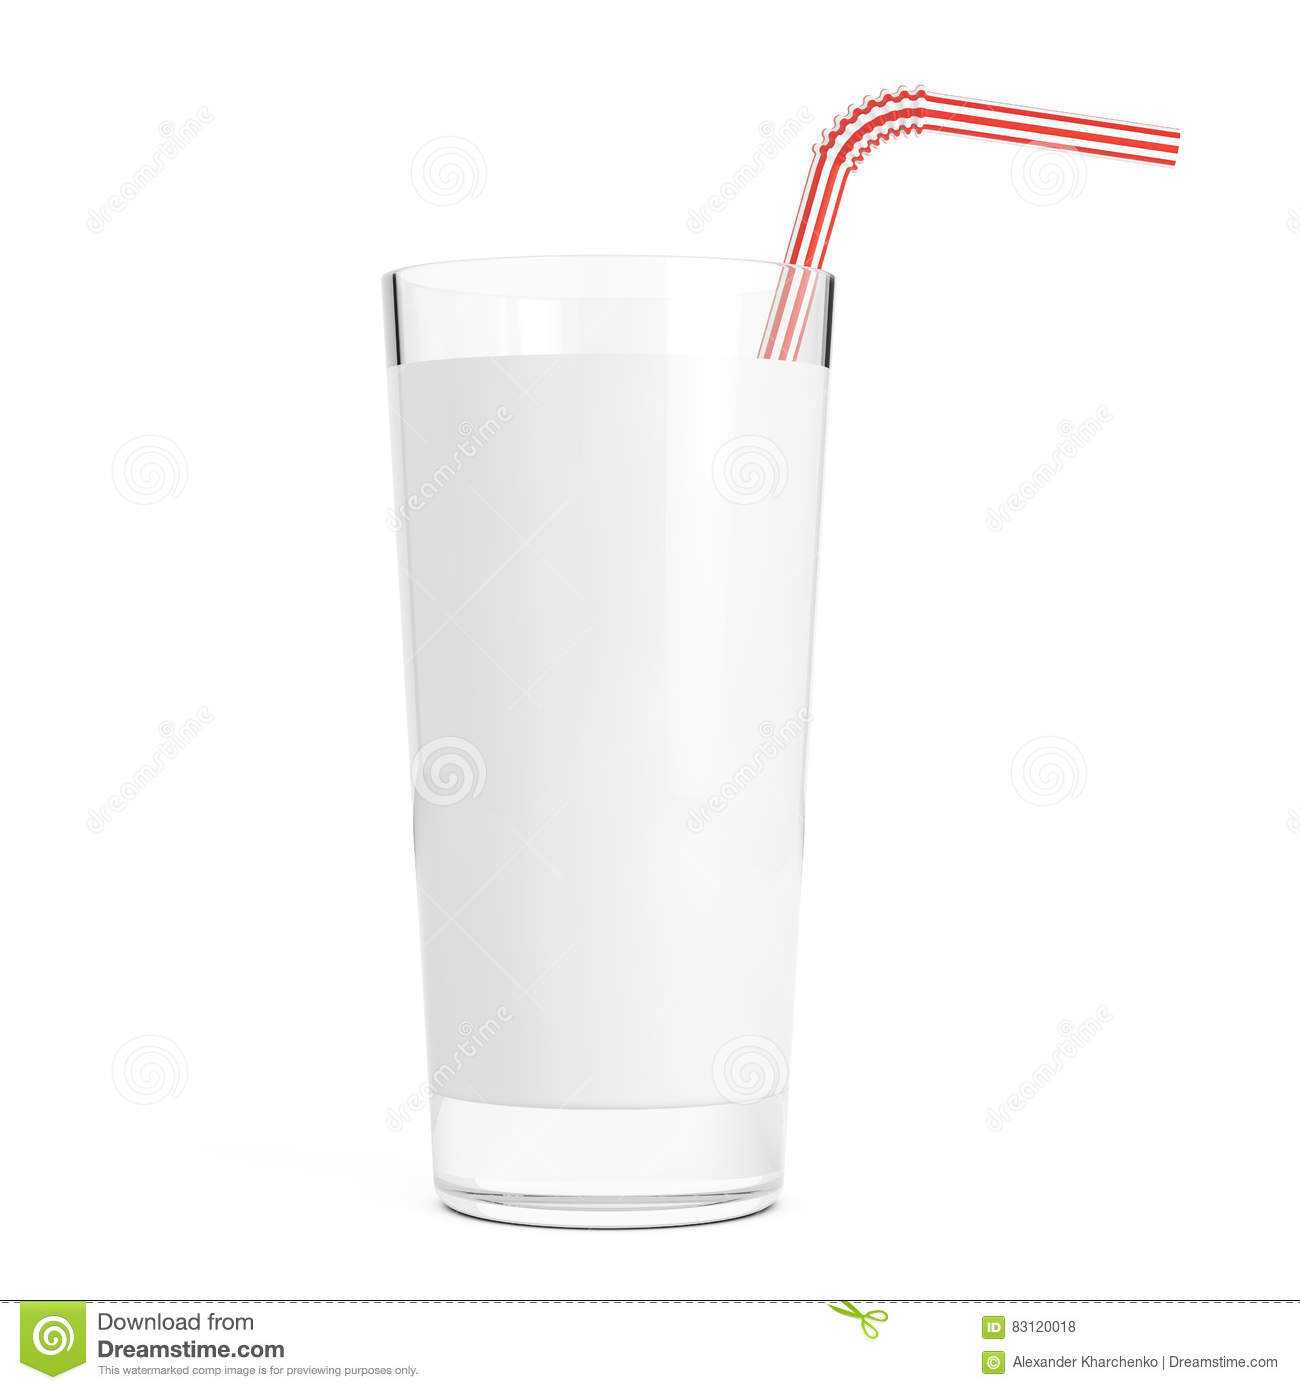glass of milk: (400, 267, 803, 1232)
